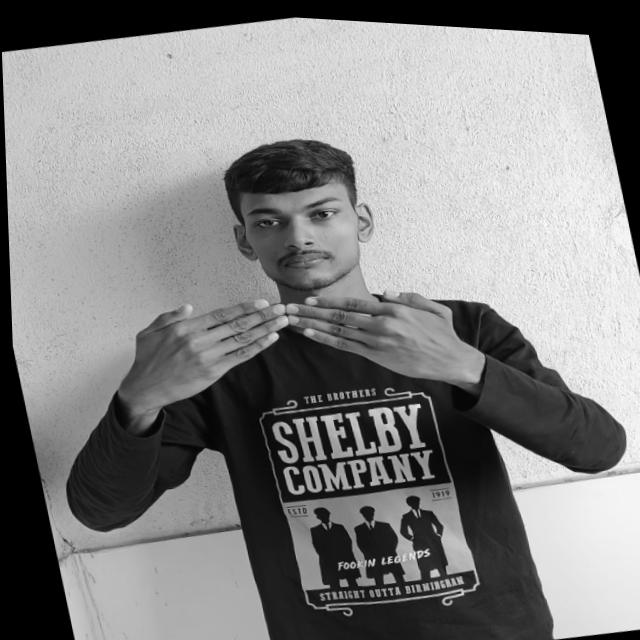Night: (114, 251, 468, 413)
